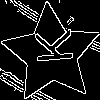K: (26, 28, 73, 66)
